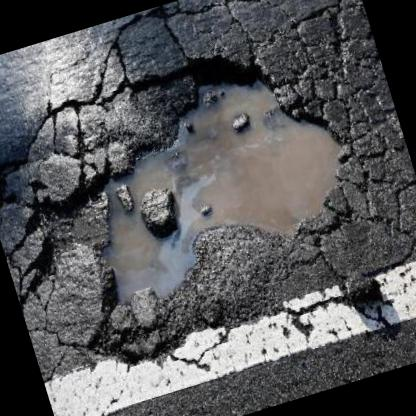pothole: (11, 14, 392, 376)
